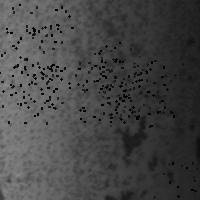pitted_surface: (1, 3, 177, 200), (79, 62, 138, 121), (60, 58, 118, 118), (124, 56, 182, 116), (94, 42, 153, 100), (107, 66, 164, 126), (1, 52, 61, 107), (6, 24, 61, 83), (98, 58, 154, 115), (0, 65, 56, 122), (12, 0, 71, 32), (153, 162, 200, 200)
